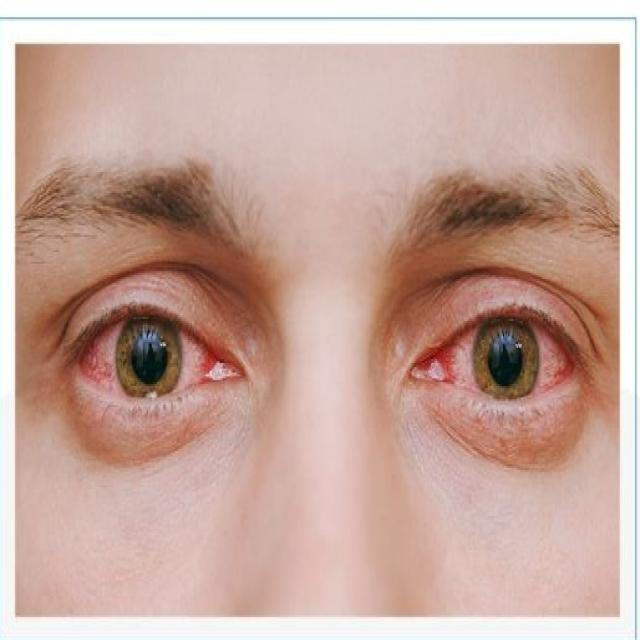Conjunctivitis: (408, 321, 588, 396), (66, 332, 236, 401)
